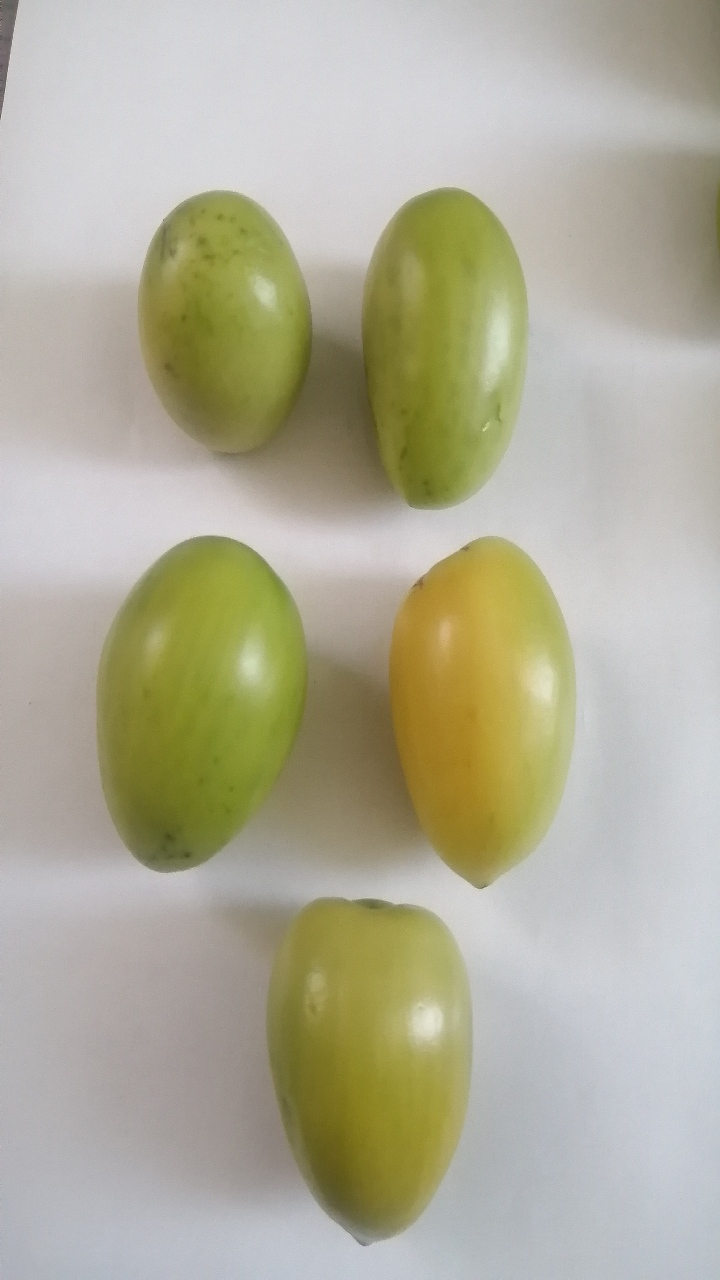tomateVerde: (235, 875, 497, 1260), (61, 515, 317, 908), (375, 519, 586, 909), (343, 166, 549, 522), (109, 163, 317, 483)
